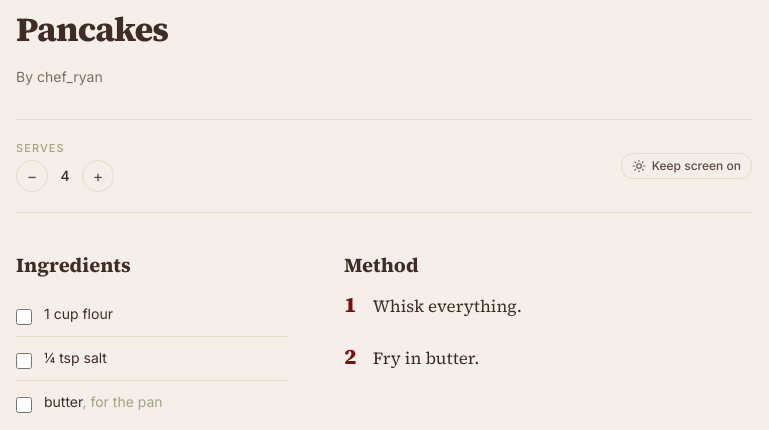
Test case: scaling › says the method isn't scaled, only while it is
Expected: the text "aren’t scaled" is not shown
Click the button named "More servings" at (98, 176), box [82,160,114,192]
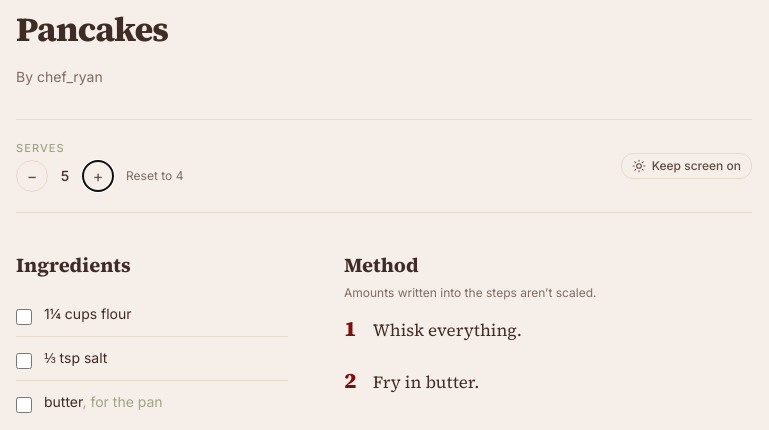
Expected: the text "Amounts written into the steps aren’t scaled." is shown, [344,285,596,300]
